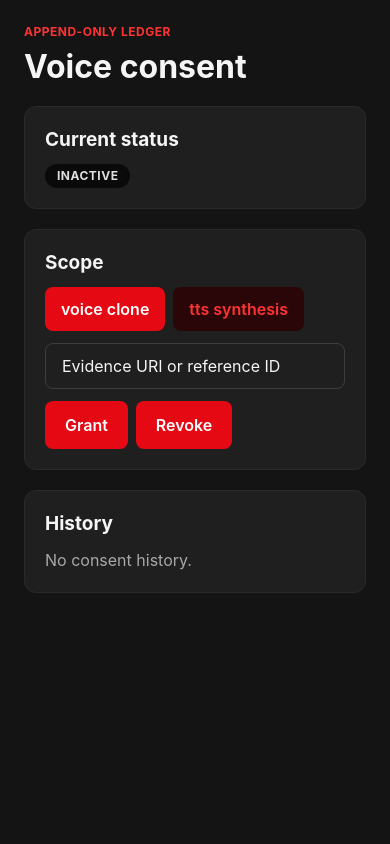
Scenario: compliance screens › HP-2: grant consent posts evidence then reloads active status
expect the text "No consent history." is shown: met, box [45,550,192,570]
Type "proof://voice" into the field with test id "consent-evidence-input". click: (195, 366)
box: [45,343,345,389]
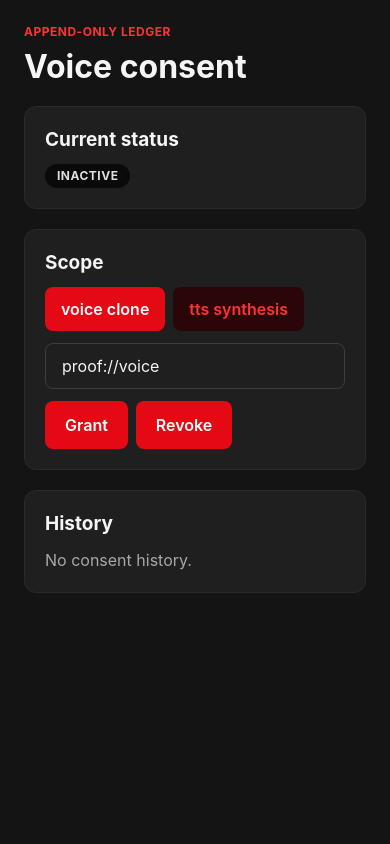
Click the button with test id "consent-grant". click: (86, 425)
box: [45,401,128,449]
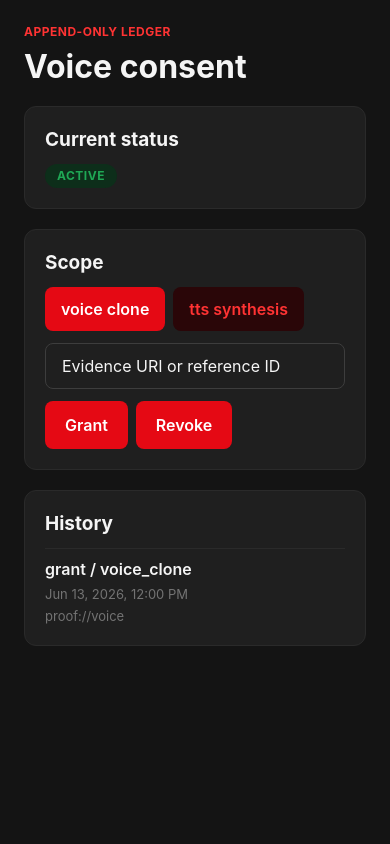
expect the text "Active" is shown: met, box [57,168,105,184]
expect the element with test id "consent-row-consent-1" is shown: met, box [45,548,345,625]
